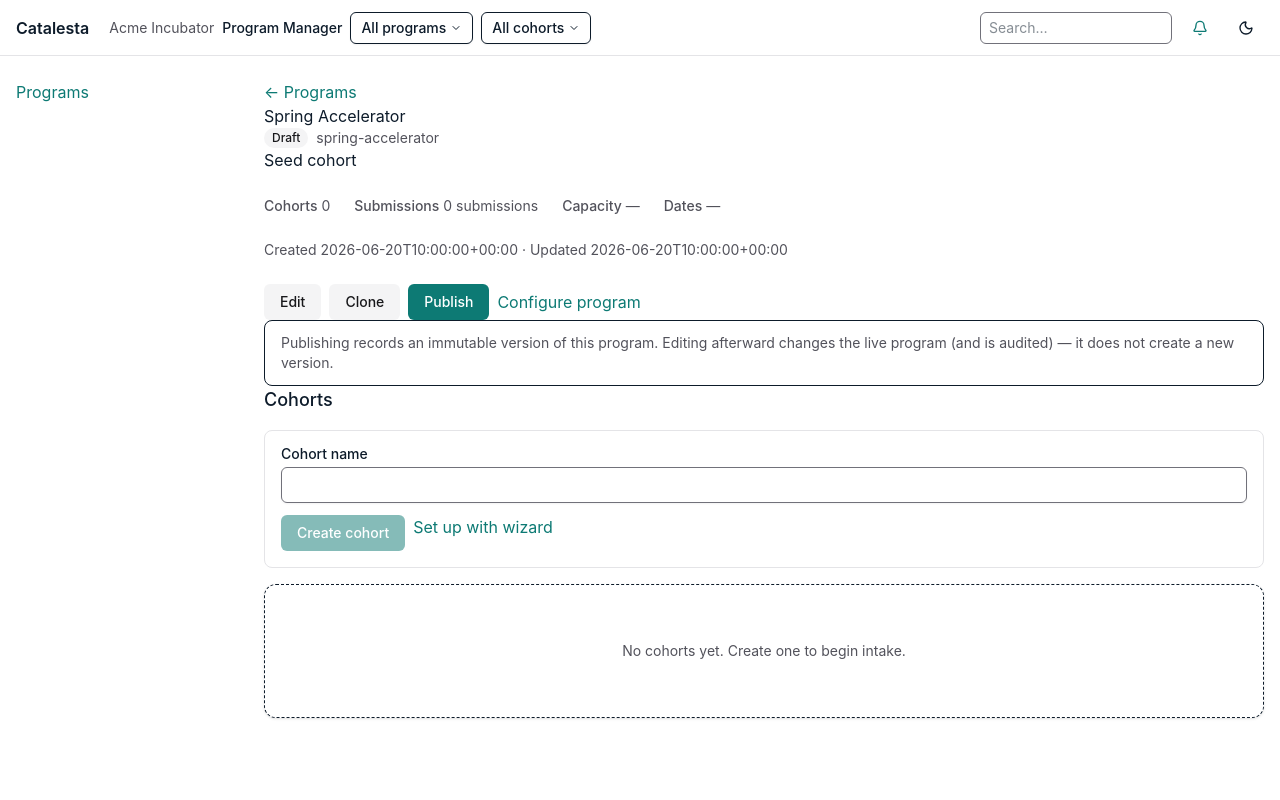
it: edit → save updates the displayed name
The width and height of the screenshot is (1280, 800).
Click the button "Edit" at (293, 302), box [264,284,321,320]
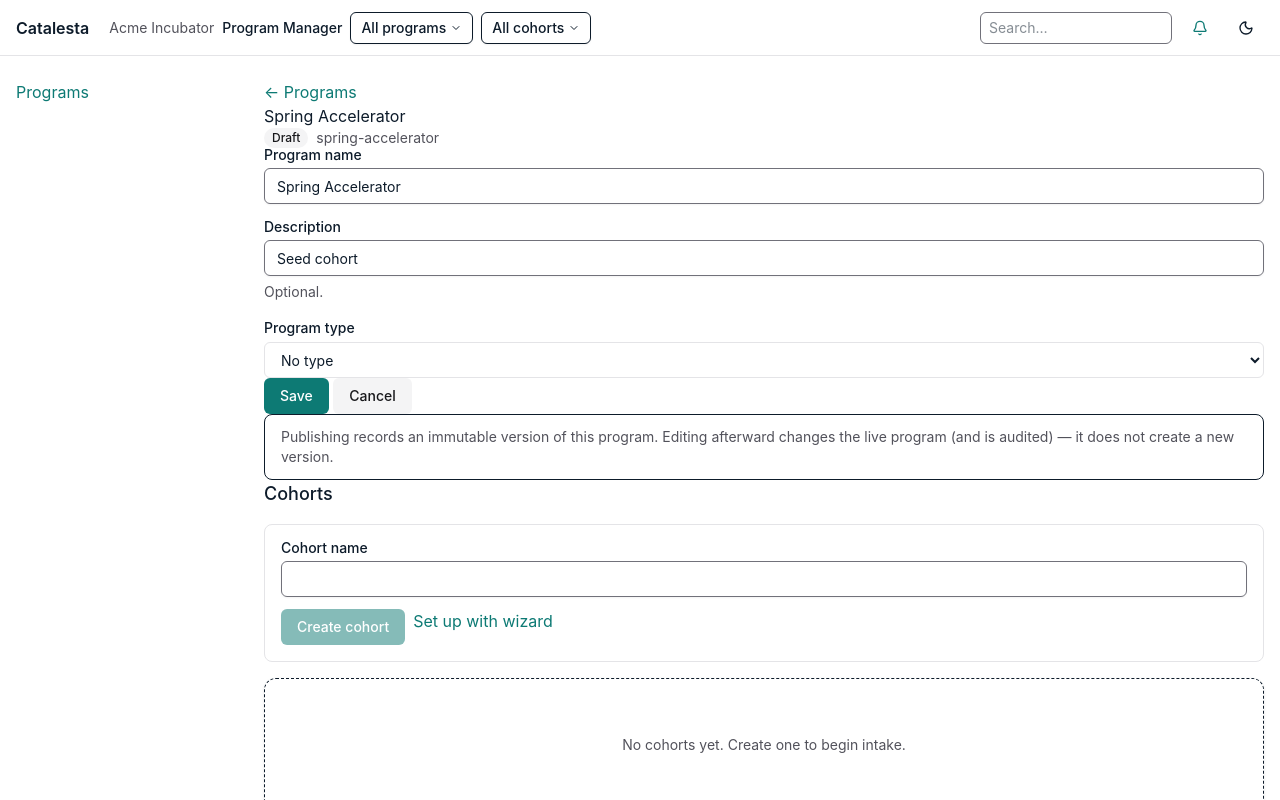
Replace the text in the field labelled "Program name" with "Renamed" at (764, 186), box [264,168,1264,204]
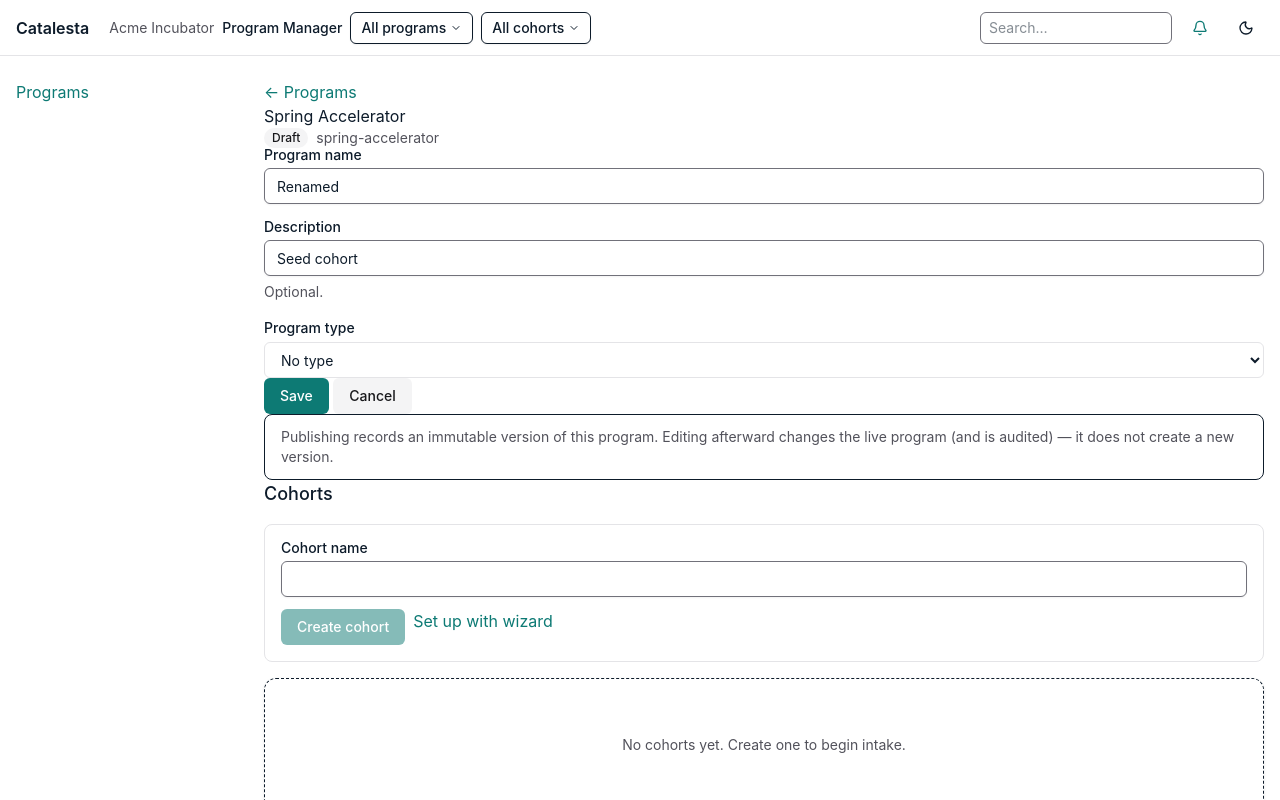
Click the button "Save" at (296, 396), box [264,378,329,414]
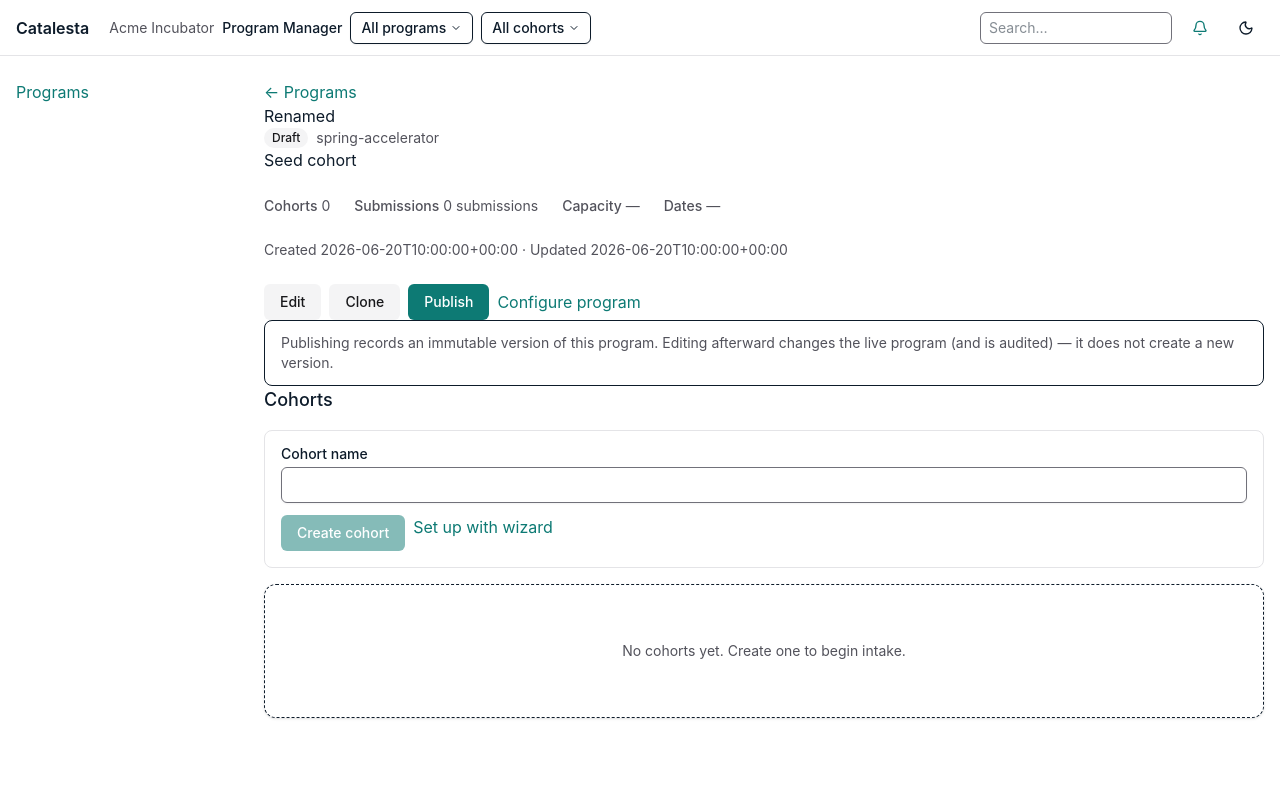
expect the heading "Renamed" is shown: met, box [264,106,335,126]
